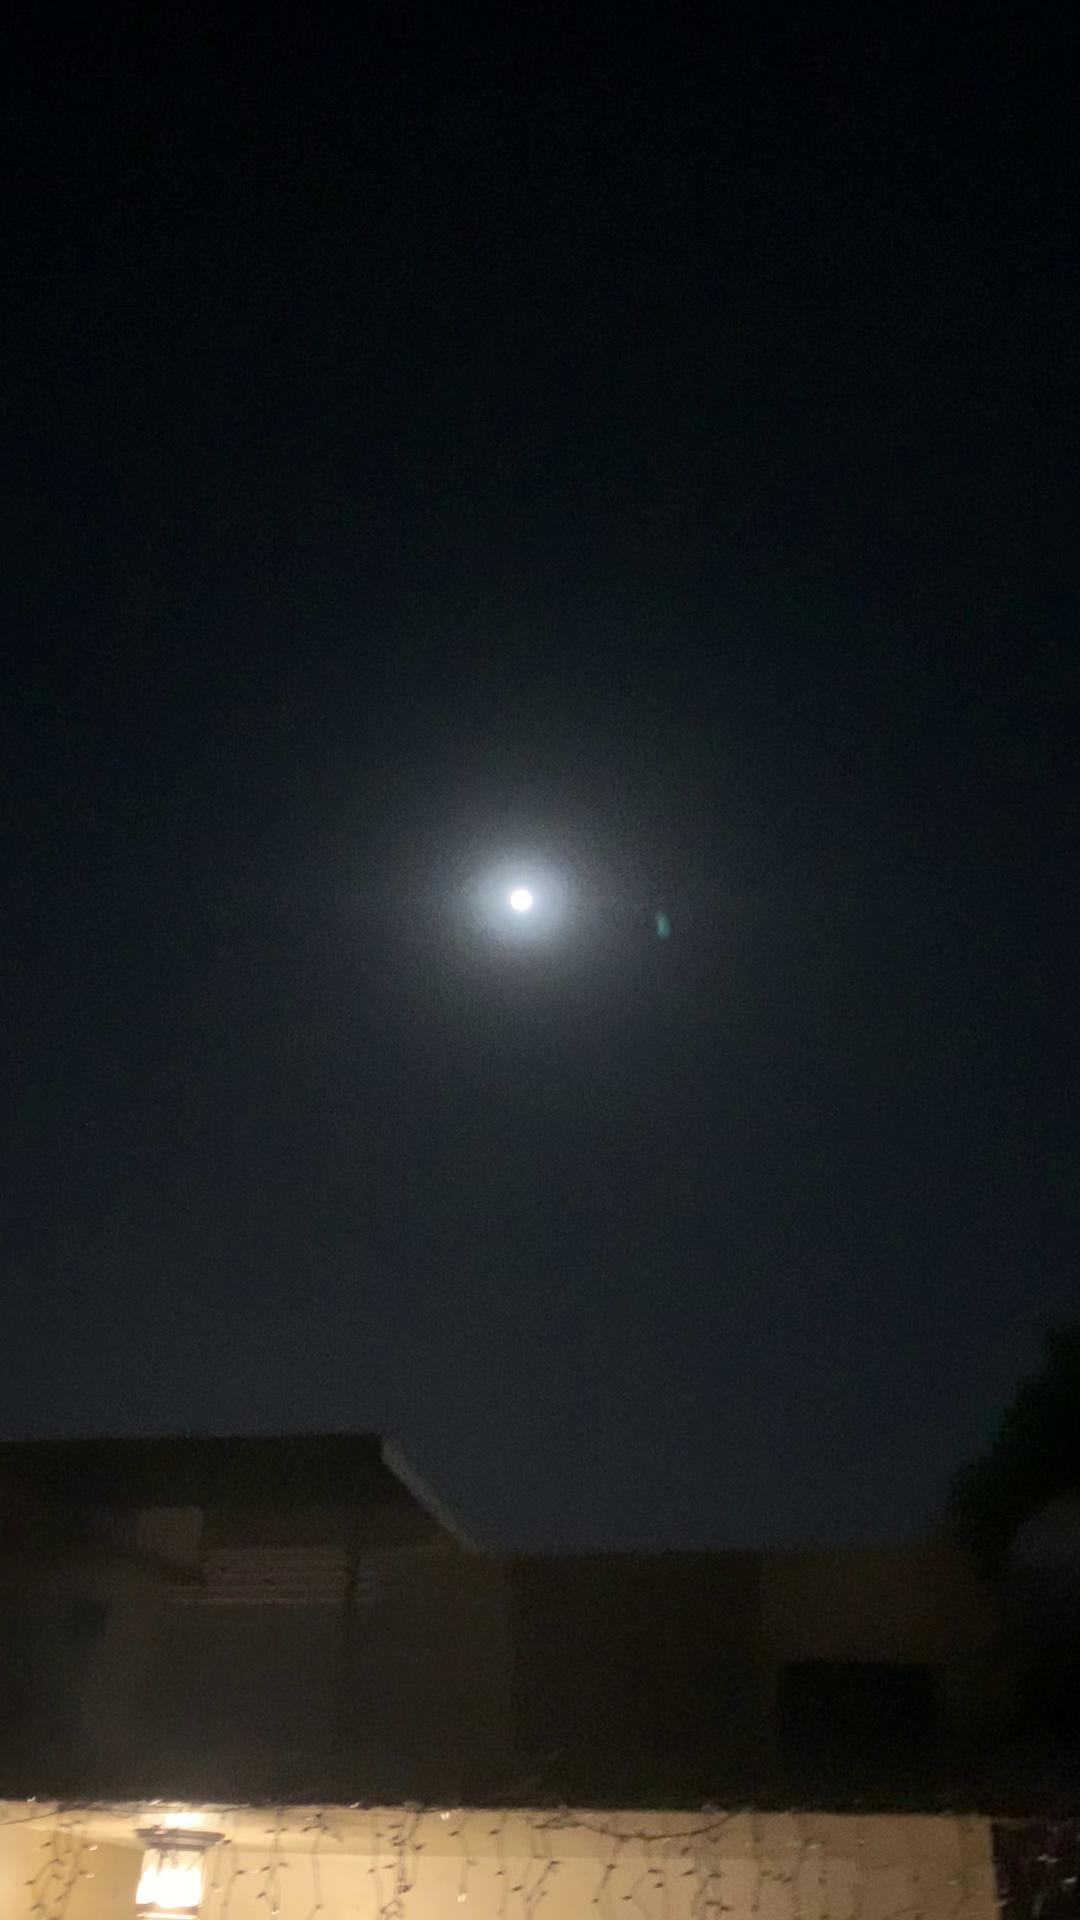moon: (479, 866, 566, 945)
